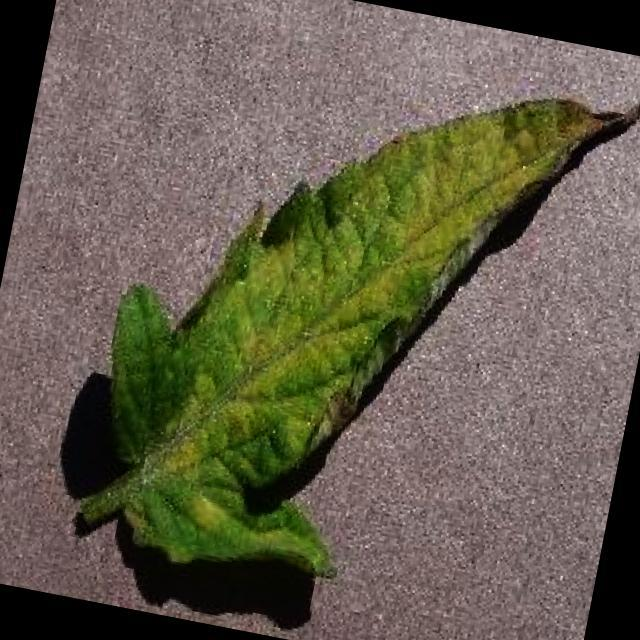Tomato mold leaf: (78, 22, 600, 623)
